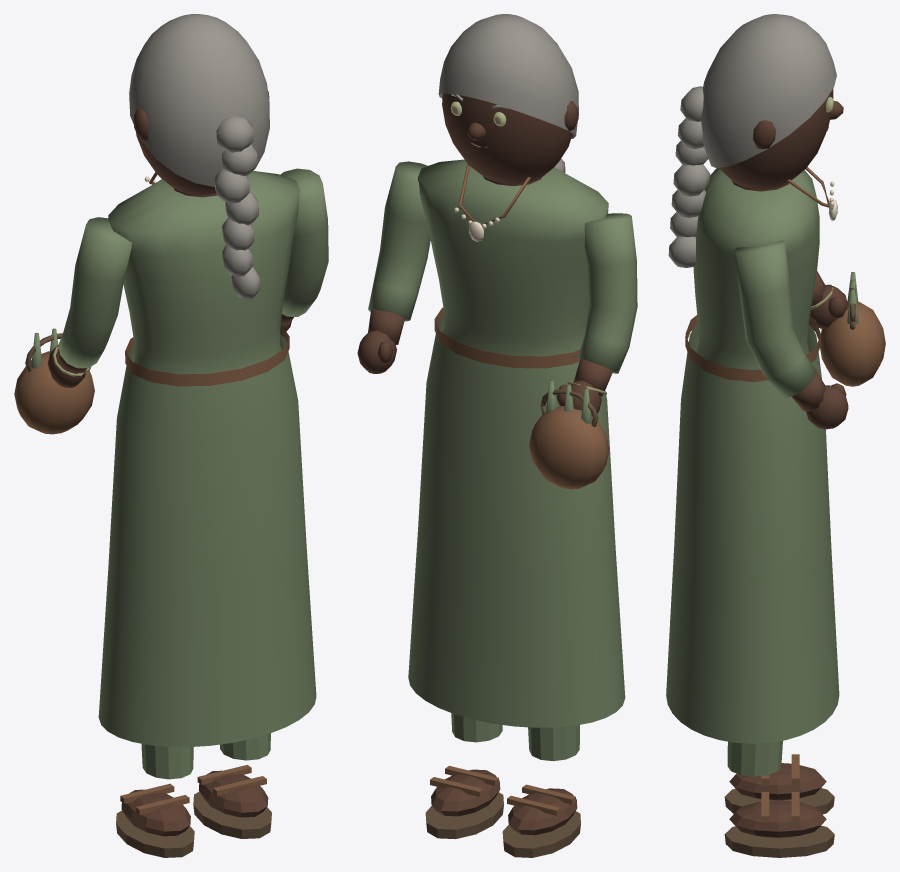
Rendered from SM_NPC_ALGA.glb.
3 renders of one model, left to right at view 1: azimuth 30°, elevation 25°; view 2: azimuth 150°, elevation 25°; view 3: azimuth 270°, elevation 25°, orthographic.
Visible parts, largest first — view 1: SM_NPC_ALGA_BODY, SM_NPC_ALGA_HAIR, SM_NPC_ALGA_ARM_L, SM_NPC_ALGA_LEG_L, SM_NPC_ALGA_LEG_R, SM_NPC_ALGA_ARM_R, SM_NPC_ALGA_HEAD; view 2: SM_NPC_ALGA_BODY, SM_NPC_ALGA_ARM_L, SM_NPC_ALGA_HAIR, SM_NPC_ALGA_ARM_R, SM_NPC_ALGA_HEAD, SM_NPC_ALGA_LEG_L, SM_NPC_ALGA_LEG_R; view 3: SM_NPC_ALGA_BODY, SM_NPC_ALGA_HAIR, SM_NPC_ALGA_ARM_R, SM_NPC_ALGA_LEG_R, SM_NPC_ALGA_ARM_L, SM_NPC_ALGA_HEAD, SM_NPC_ALGA_LEG_L.
Boxes of the visible parts, x1,y1,x2,y2 form: SM_NPC_ALGA_BODY: [98, 171, 316, 747]; SM_NPC_ALGA_HAIR: [129, 14, 269, 299]; SM_NPC_ALGA_ARM_L: [14, 217, 131, 434]; SM_NPC_ALGA_LEG_L: [116, 744, 194, 857]; SM_NPC_ALGA_LEG_R: [193, 733, 271, 838]; SM_NPC_ALGA_ARM_R: [280, 168, 328, 331]; SM_NPC_ALGA_HEAD: [133, 91, 269, 194]; SM_NPC_ALGA_BODY: [408, 159, 625, 727]; SM_NPC_ALGA_ARM_L: [529, 213, 637, 489]; SM_NPC_ALGA_HAIR: [438, 14, 578, 172]; SM_NPC_ALGA_ARM_R: [357, 161, 430, 373]; SM_NPC_ALGA_HEAD: [442, 93, 578, 183]; SM_NPC_ALGA_LEG_L: [502, 725, 580, 857]; SM_NPC_ALGA_LEG_R: [425, 713, 503, 839]; SM_NPC_ALGA_BODY: [666, 167, 839, 743]; SM_NPC_ALGA_HAIR: [668, 14, 836, 267]; SM_NPC_ALGA_ARM_R: [733, 240, 848, 429]; SM_NPC_ALGA_LEG_R: [724, 740, 834, 857]; SM_NPC_ALGA_ARM_L: [810, 271, 885, 386]; SM_NPC_ALGA_HEAD: [719, 88, 843, 189]; SM_NPC_ALGA_LEG_L: [724, 754, 834, 814].
Bounding box in the file's own units: 0.5878 × 1.71 × 0.4228.
